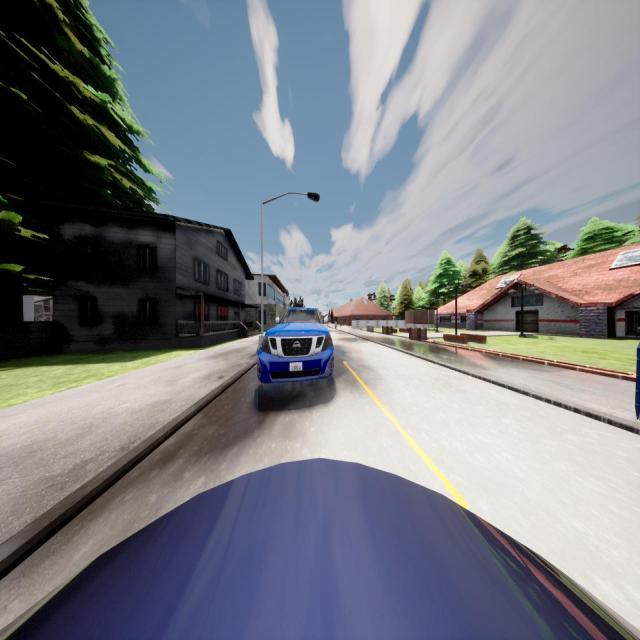Vehicle: (0, 459, 638, 640), (257, 307, 334, 383)
